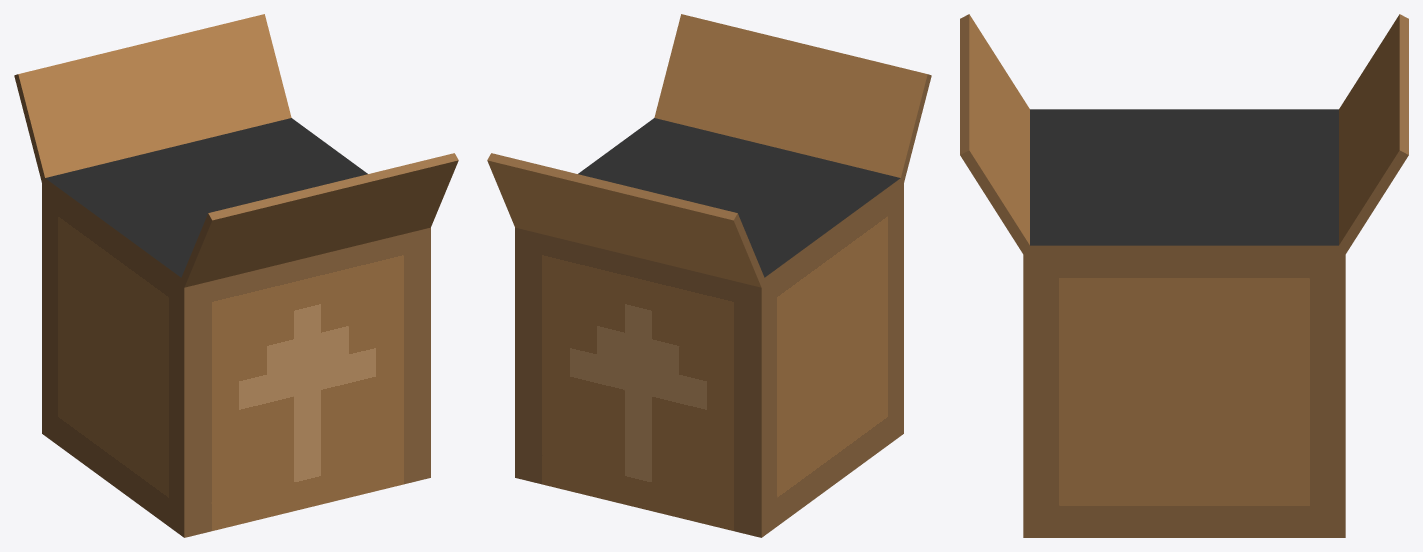
The model's file is openbox.fbx.
3 views of the same model, side by side, from view 1: azimuth 30°, elevation 25°; view 2: azimuth 150°, elevation 25°; view 3: azimuth 270°, elevation 25° (orthographic). The views are drawn at different scales.
Visible parts, largest first — view 1: cube, cube_1, cube_2; view 2: cube, cube_2, cube_1; view 3: cube, cube_1, cube_2.
Boxes of the visible parts, x1,y1,x2,y2 form: cube: (42,118,430,537); cube_1: (14,14,291,182); cube_2: (178,153,458,292); cube: (515,118,903,537); cube_2: (654,14,931,191); cube_1: (487,153,767,291); cube: (1023,109,1345,537); cube_1: (1332,14,1408,260); cube_2: (960,14,1036,260).
Size of the model in its own units: 56.25 by 74.63 by 78.33.
Materials: 1 (1 with a texture image).
